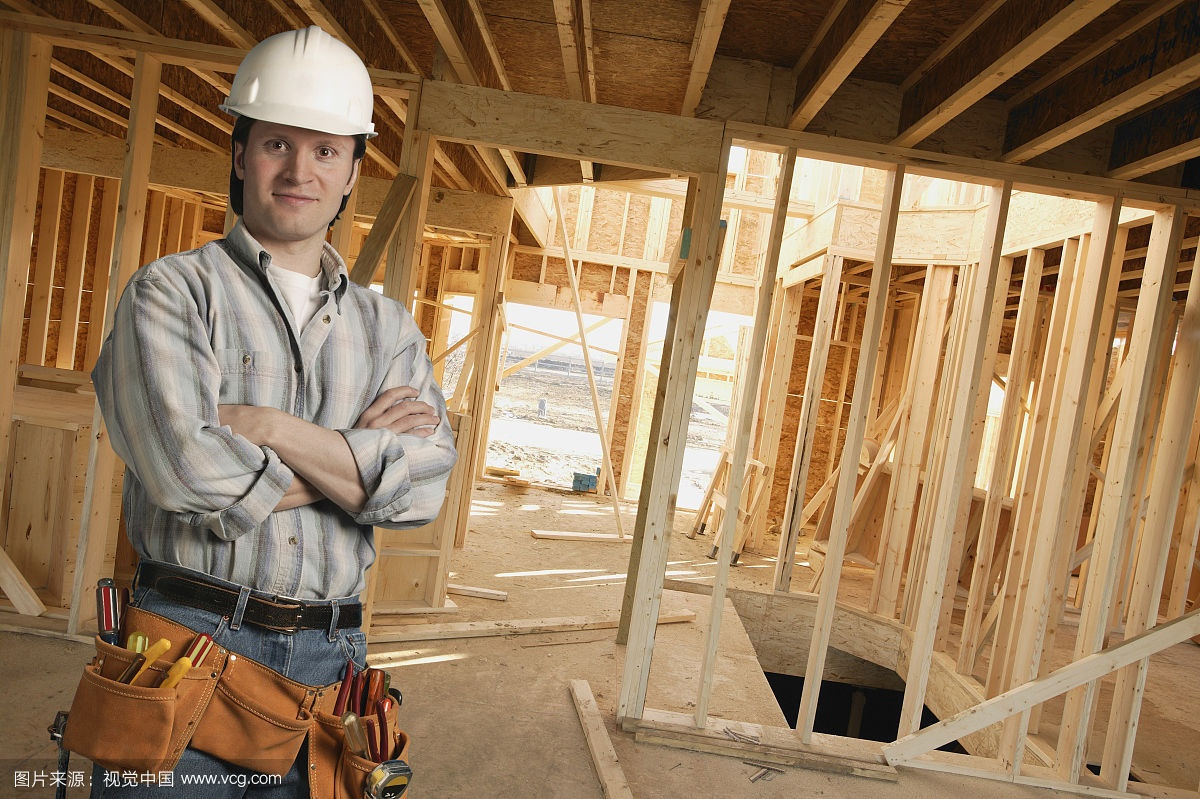white: (209, 23, 381, 245)
